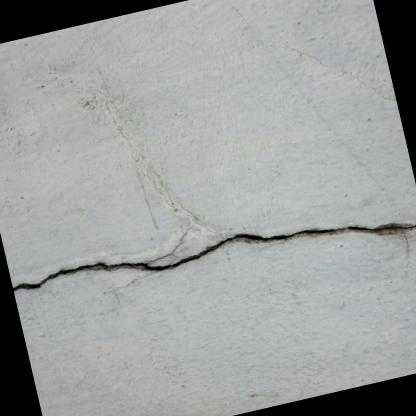crack: (12, 222, 416, 293)
